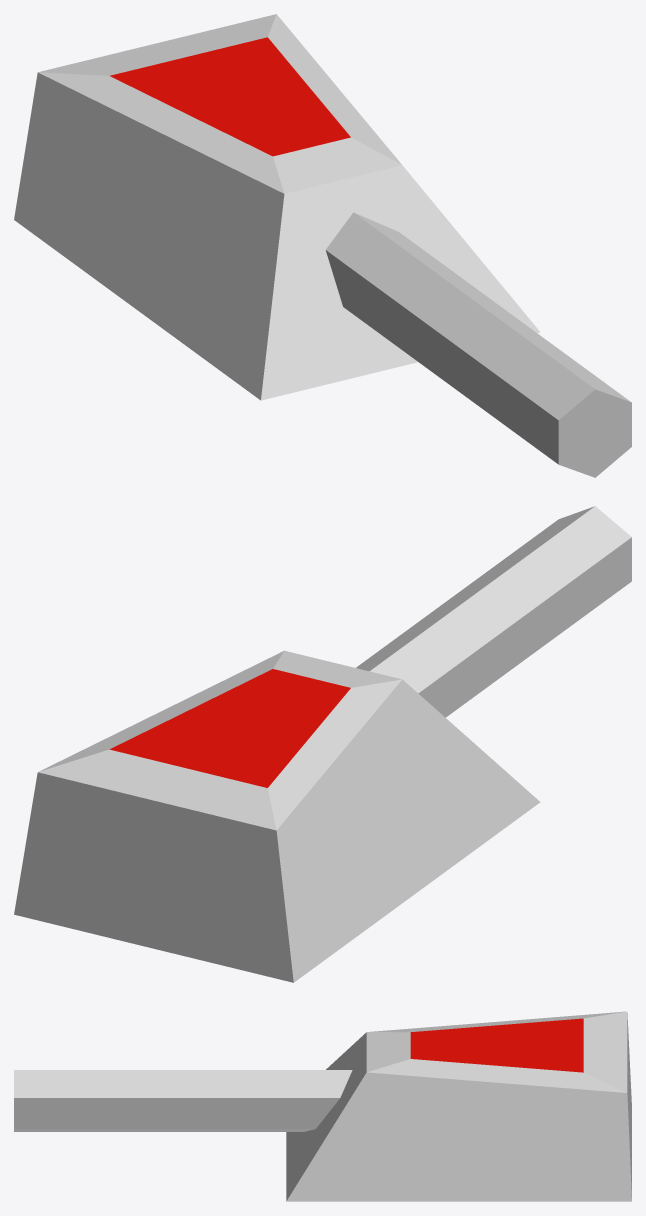
Rendered from TurretCannon.fbx.
3 renders of one model, top to bottom at view 1: azimuth 30°, elevation 25°; view 2: azimuth 150°, elevation 25°; view 3: azimuth 270°, elevation 25°, orthographic. The views are drawn at different scales.
Parts seen in each view (by area): view 1: TurretCannon; view 2: TurretCannon; view 3: TurretCannon.
Boxes of the visible parts, bbox=[...] form: TurretCannon: bbox=[14, 14, 631, 477]; TurretCannon: bbox=[14, 506, 631, 982]; TurretCannon: bbox=[14, 1011, 631, 1201].
Bounding box in the file's own units: 16.92 × 8.94 × 46.25.
